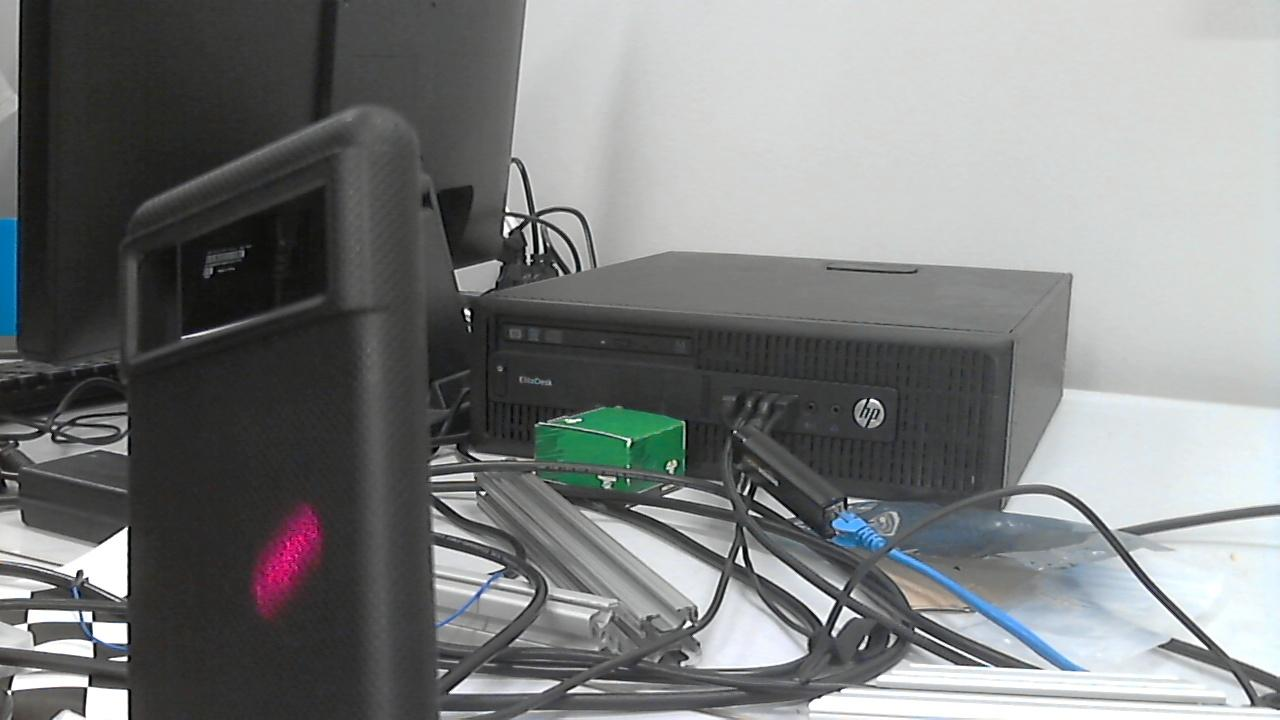Object protective phone case - Material plastic - Pdfname asdfeafgta: (234, 500, 328, 622)
